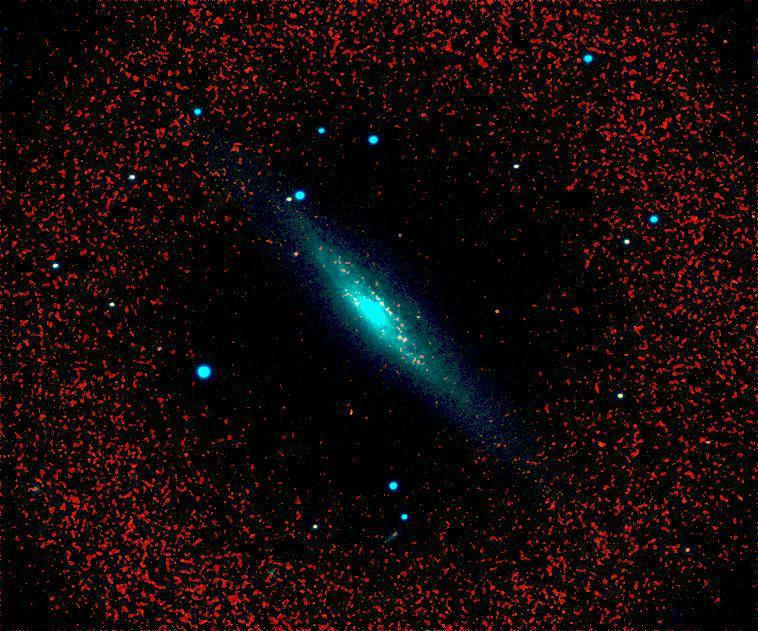star: (588, 429, 618, 459)
